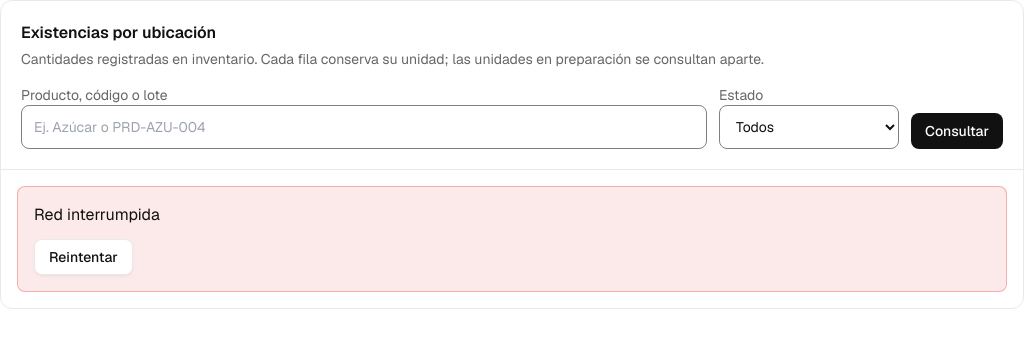
Scenario: Consultas de inventario › presenta vacío y permite recuperar un error de consulta
Expected: the message shows "Red interrumpida", left=34, top=204, right=160, bottom=225
Click the button "Reintentar" at point(83, 257), box left=34, top=239, right=133, bottom=275
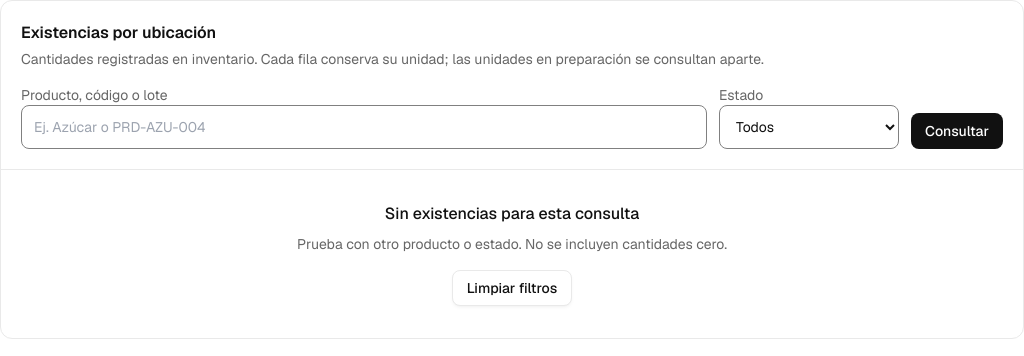
Now the text "Sin existencias para esta consulta" is shown, box left=385, top=203, right=639, bottom=224
